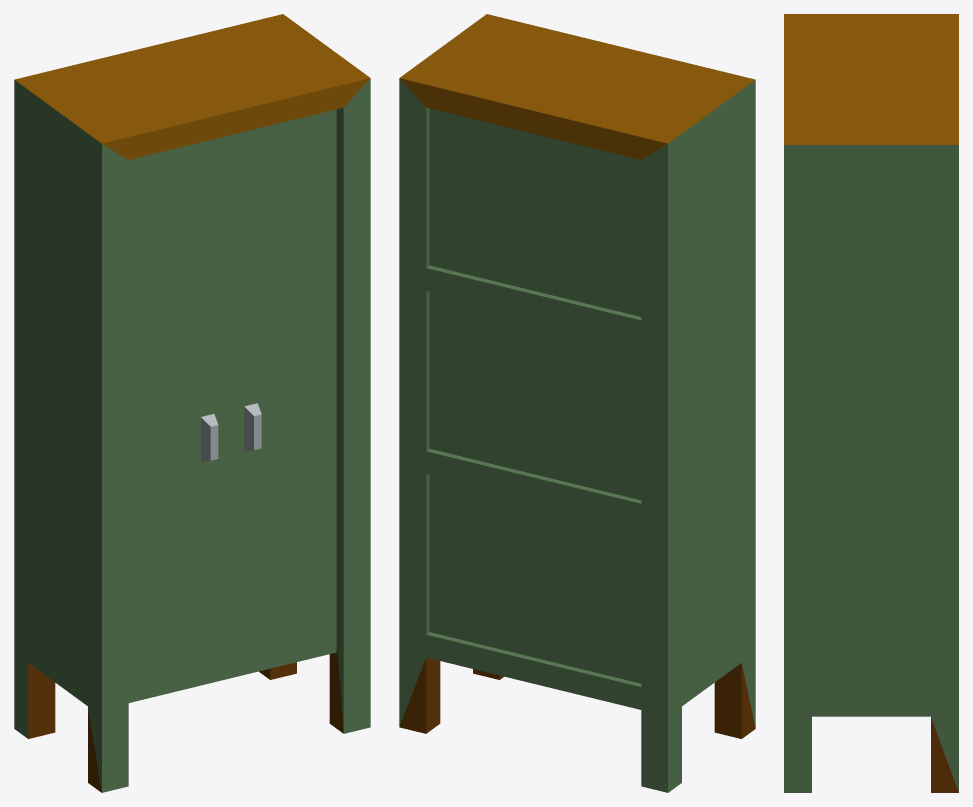
File: cupboard.glb
The picture shows the model from 3 angles, left to right: view 1: azimuth 30°, elevation 25°; view 2: azimuth 150°, elevation 25°; view 3: azimuth 270°, elevation 25°; orthographic projection.
Parts seen in each view (by area): view 1: cupboard; view 2: cupboard; view 3: cupboard.
Boxes of the visible parts, x1,y1,x2,y2 form: cupboard: [14, 14, 370, 792]; cupboard: [399, 14, 755, 792]; cupboard: [784, 14, 958, 792].
Bounding box in the file's own units: 0.78 × 1.8 × 0.44.
